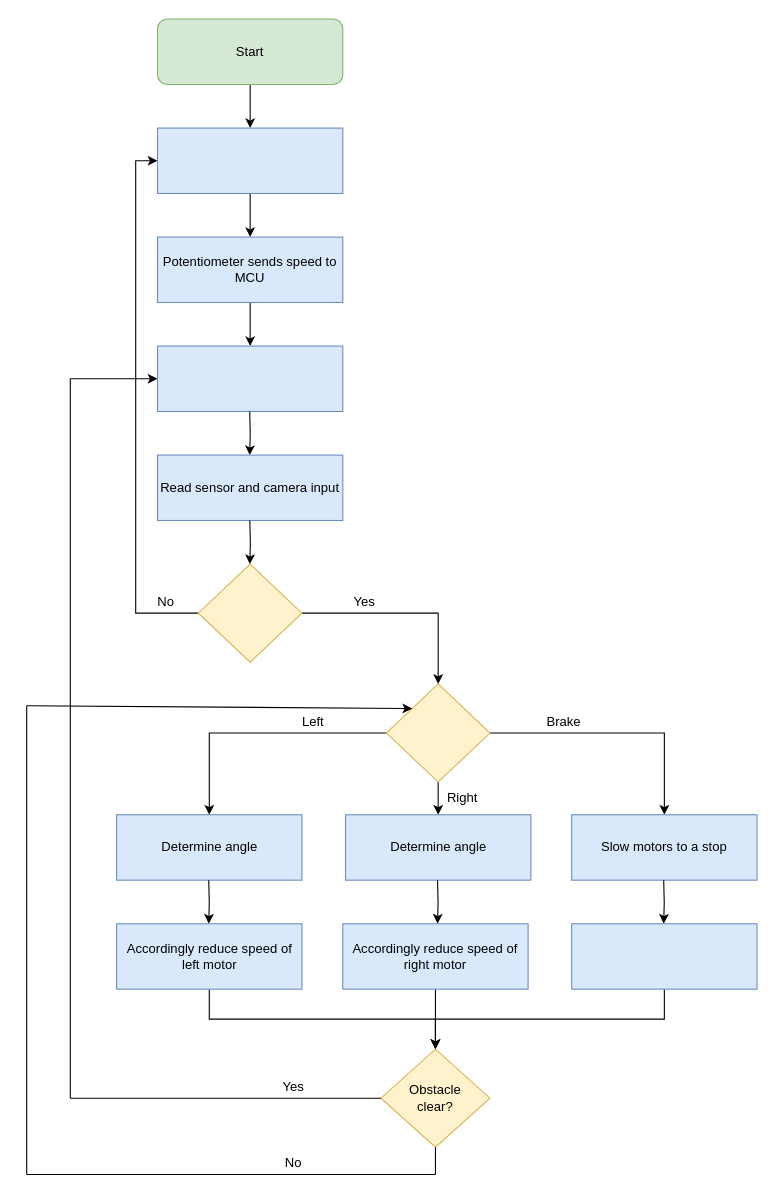
The diagram is 776 pixels wide and 1199 high, and some of its shapes have lost their labels. The shapes that lost their labels are listed below. From the top down, each one's centre as x and y in pixels, then its label:
At pixel 249 160: "User turns dial".
At pixel 249 378: "MCU sends command to motor driver to provide PWM cycle to motors".
At pixel 249 612: "Obstacle detected?".
At pixel 437 732: "How to avoid obstacle?".
At pixel 664 956: "Reverse motors (swap polarity) until walker is stopped".
